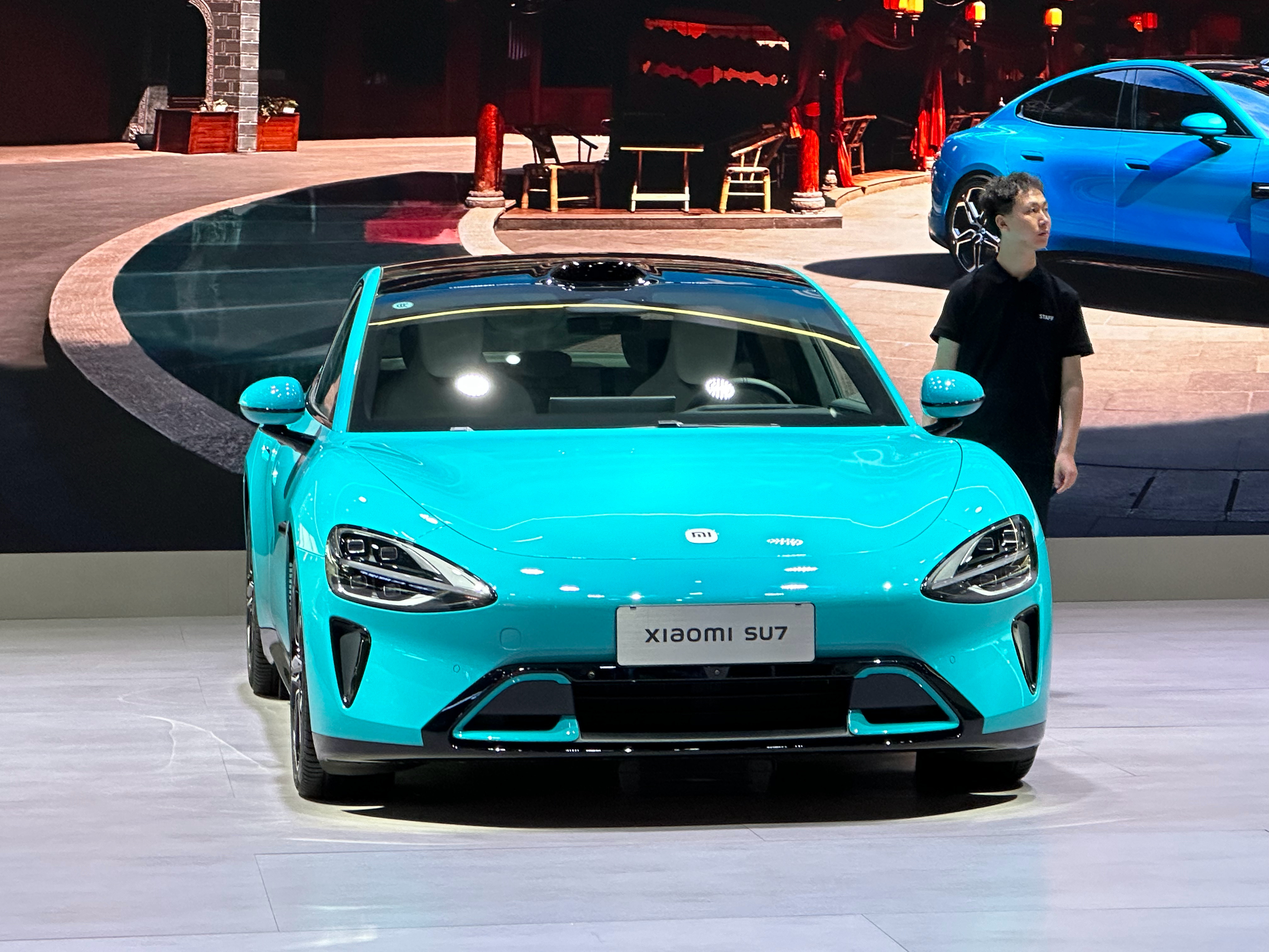su7: (233, 243, 1073, 801), (932, 56, 1269, 271)
